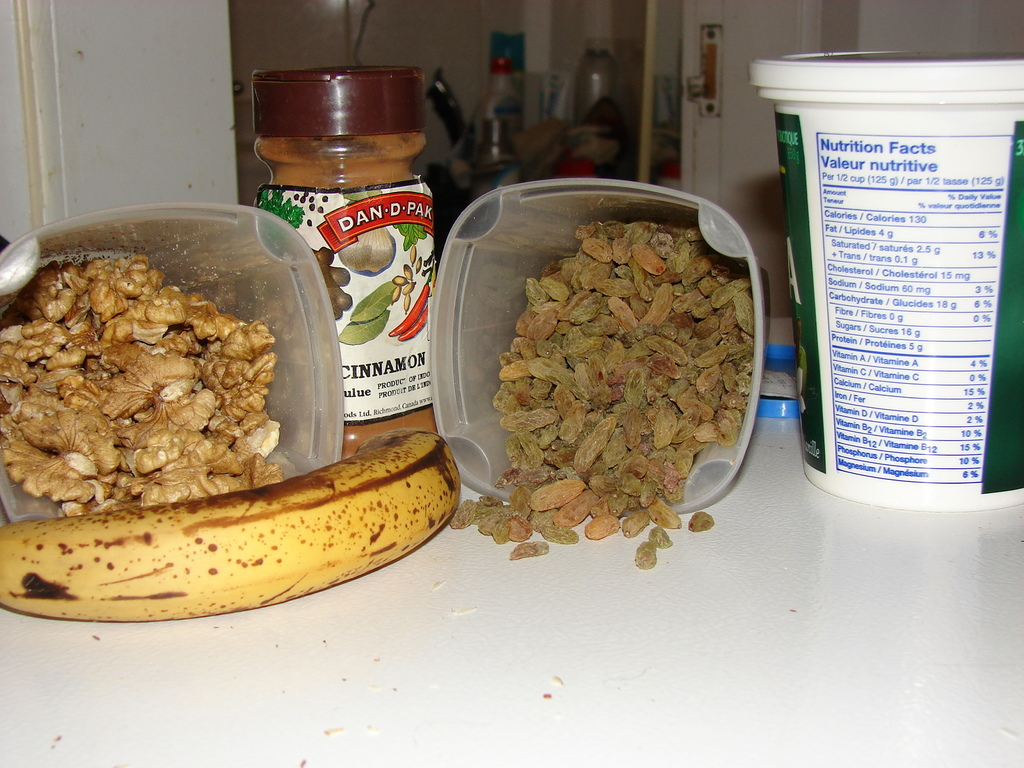Banana: (24, 431, 447, 632)
